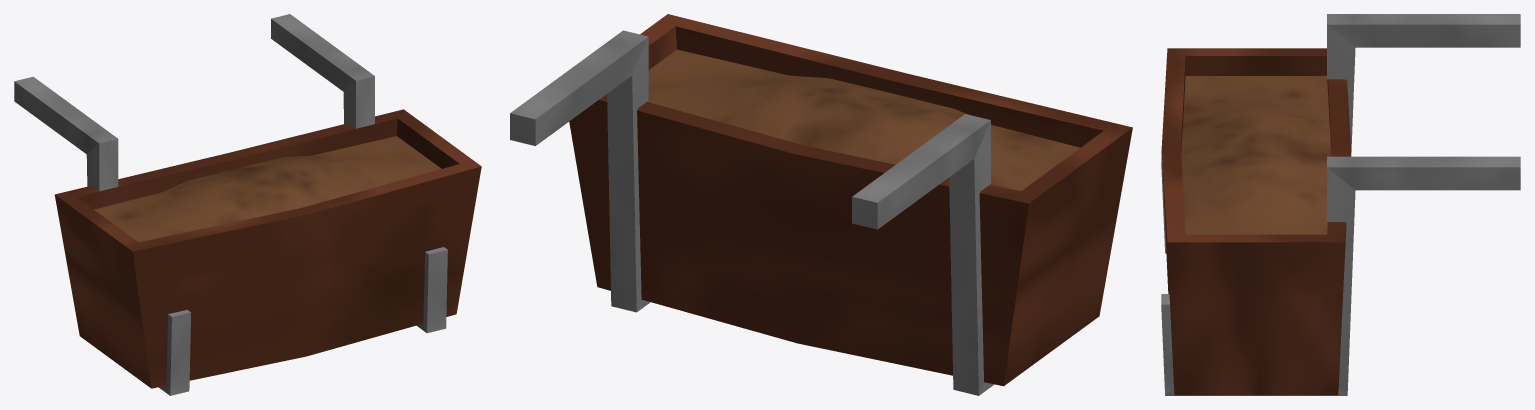
File: Window_flowers_bowl.fbx
3 renders of one model, left to right at view 1: azimuth 30°, elevation 25°; view 2: azimuth 150°, elevation 25°; view 3: azimuth 270°, elevation 25°, orthographic. The views are drawn at different scales.
Parts seen in each view (by area): view 1: Window_flowers_bowl_LOD0; view 2: Window_flowers_bowl_LOD0; view 3: Window_flowers_bowl_LOD0.
Boxes of the visible parts, <box> form: Window_flowers_bowl_LOD0: <box>14,14,481,395</box>; Window_flowers_bowl_LOD0: <box>510,14,1132,395</box>; Window_flowers_bowl_LOD0: <box>1161,14,1520,395</box>.
Size of what is drawn, in the model's own units: 164 by 90 by 128.
